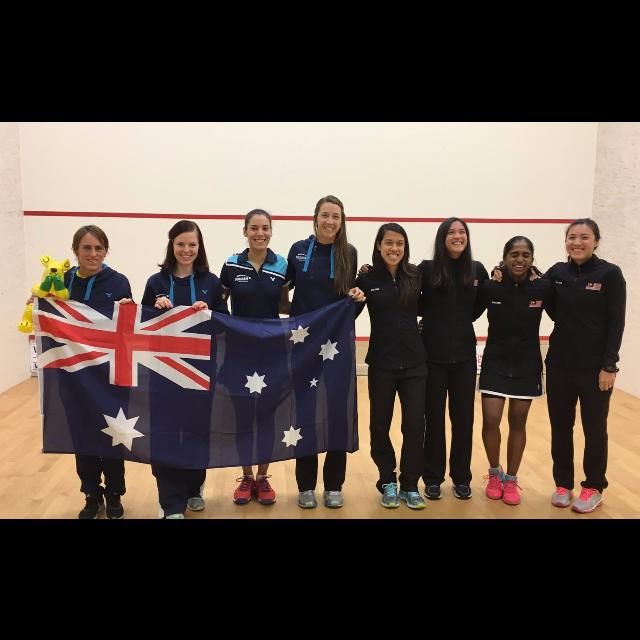head: (72, 223, 108, 270), (565, 218, 601, 260), (170, 220, 202, 266), (502, 234, 536, 276), (314, 195, 346, 239), (376, 222, 408, 266), (242, 208, 274, 250), (439, 217, 468, 253)
person: (356, 215, 542, 501), (415, 236, 583, 507), (230, 193, 368, 509), (490, 217, 628, 516), (320, 220, 450, 510), (198, 207, 318, 505)
